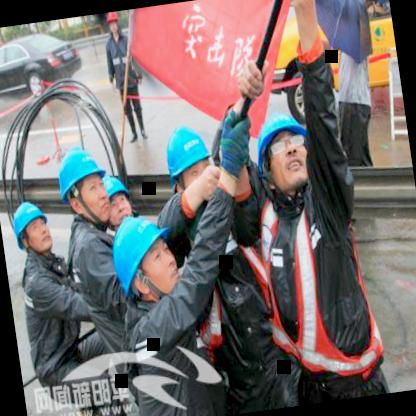helmet: (247, 96, 320, 207), (110, 210, 186, 307), (154, 114, 222, 213), (46, 138, 116, 230), (6, 192, 56, 258), (96, 167, 134, 226), (103, 12, 121, 36)
